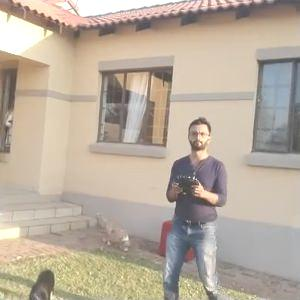follow: (151, 111, 231, 298)
null: (91, 209, 134, 255), (23, 268, 56, 298)
